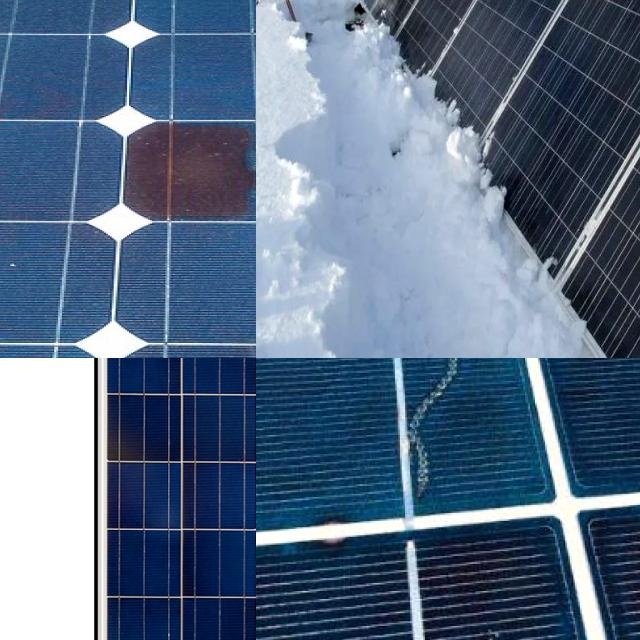crack: (101, 358, 256, 640)
panel: (301, 0, 435, 114), (473, 165, 559, 306), (406, 77, 503, 166), (537, 309, 640, 358)
shadow: (102, 120, 256, 267), (402, 358, 492, 501)
